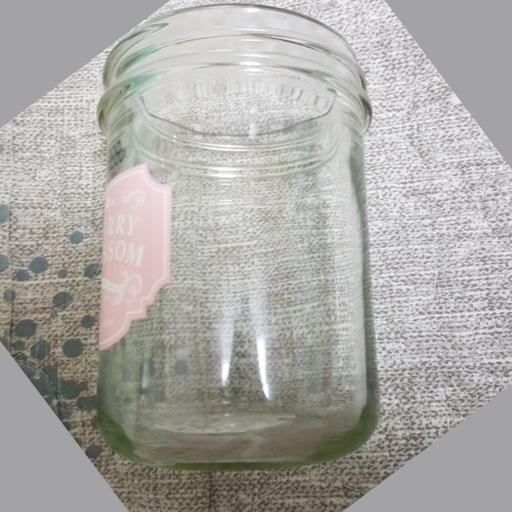Glass_5: (96, 4, 381, 466)
